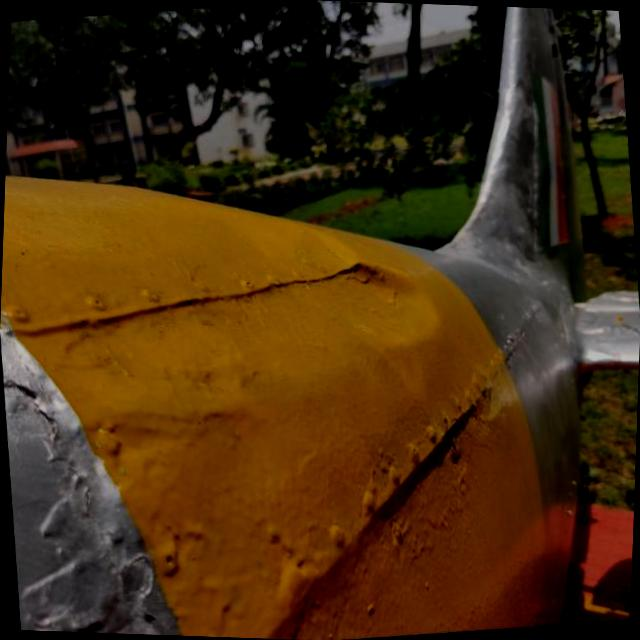dent: (323, 260, 446, 346)
